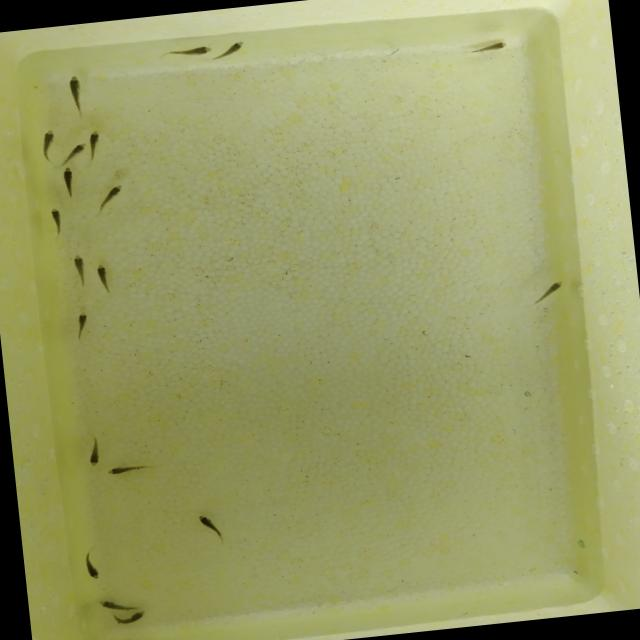fingerling: (530, 279, 568, 308), (193, 510, 226, 541), (94, 180, 128, 210), (60, 74, 88, 107), (469, 37, 513, 55), (120, 604, 150, 628), (104, 461, 144, 478), (38, 126, 64, 152), (78, 554, 104, 580), (218, 37, 247, 59), (85, 435, 103, 470), (180, 42, 216, 58), (70, 252, 88, 280), (96, 596, 126, 612), (96, 258, 110, 292), (48, 206, 66, 231), (77, 308, 92, 338), (86, 128, 104, 150), (62, 167, 78, 190), (66, 142, 90, 156)
